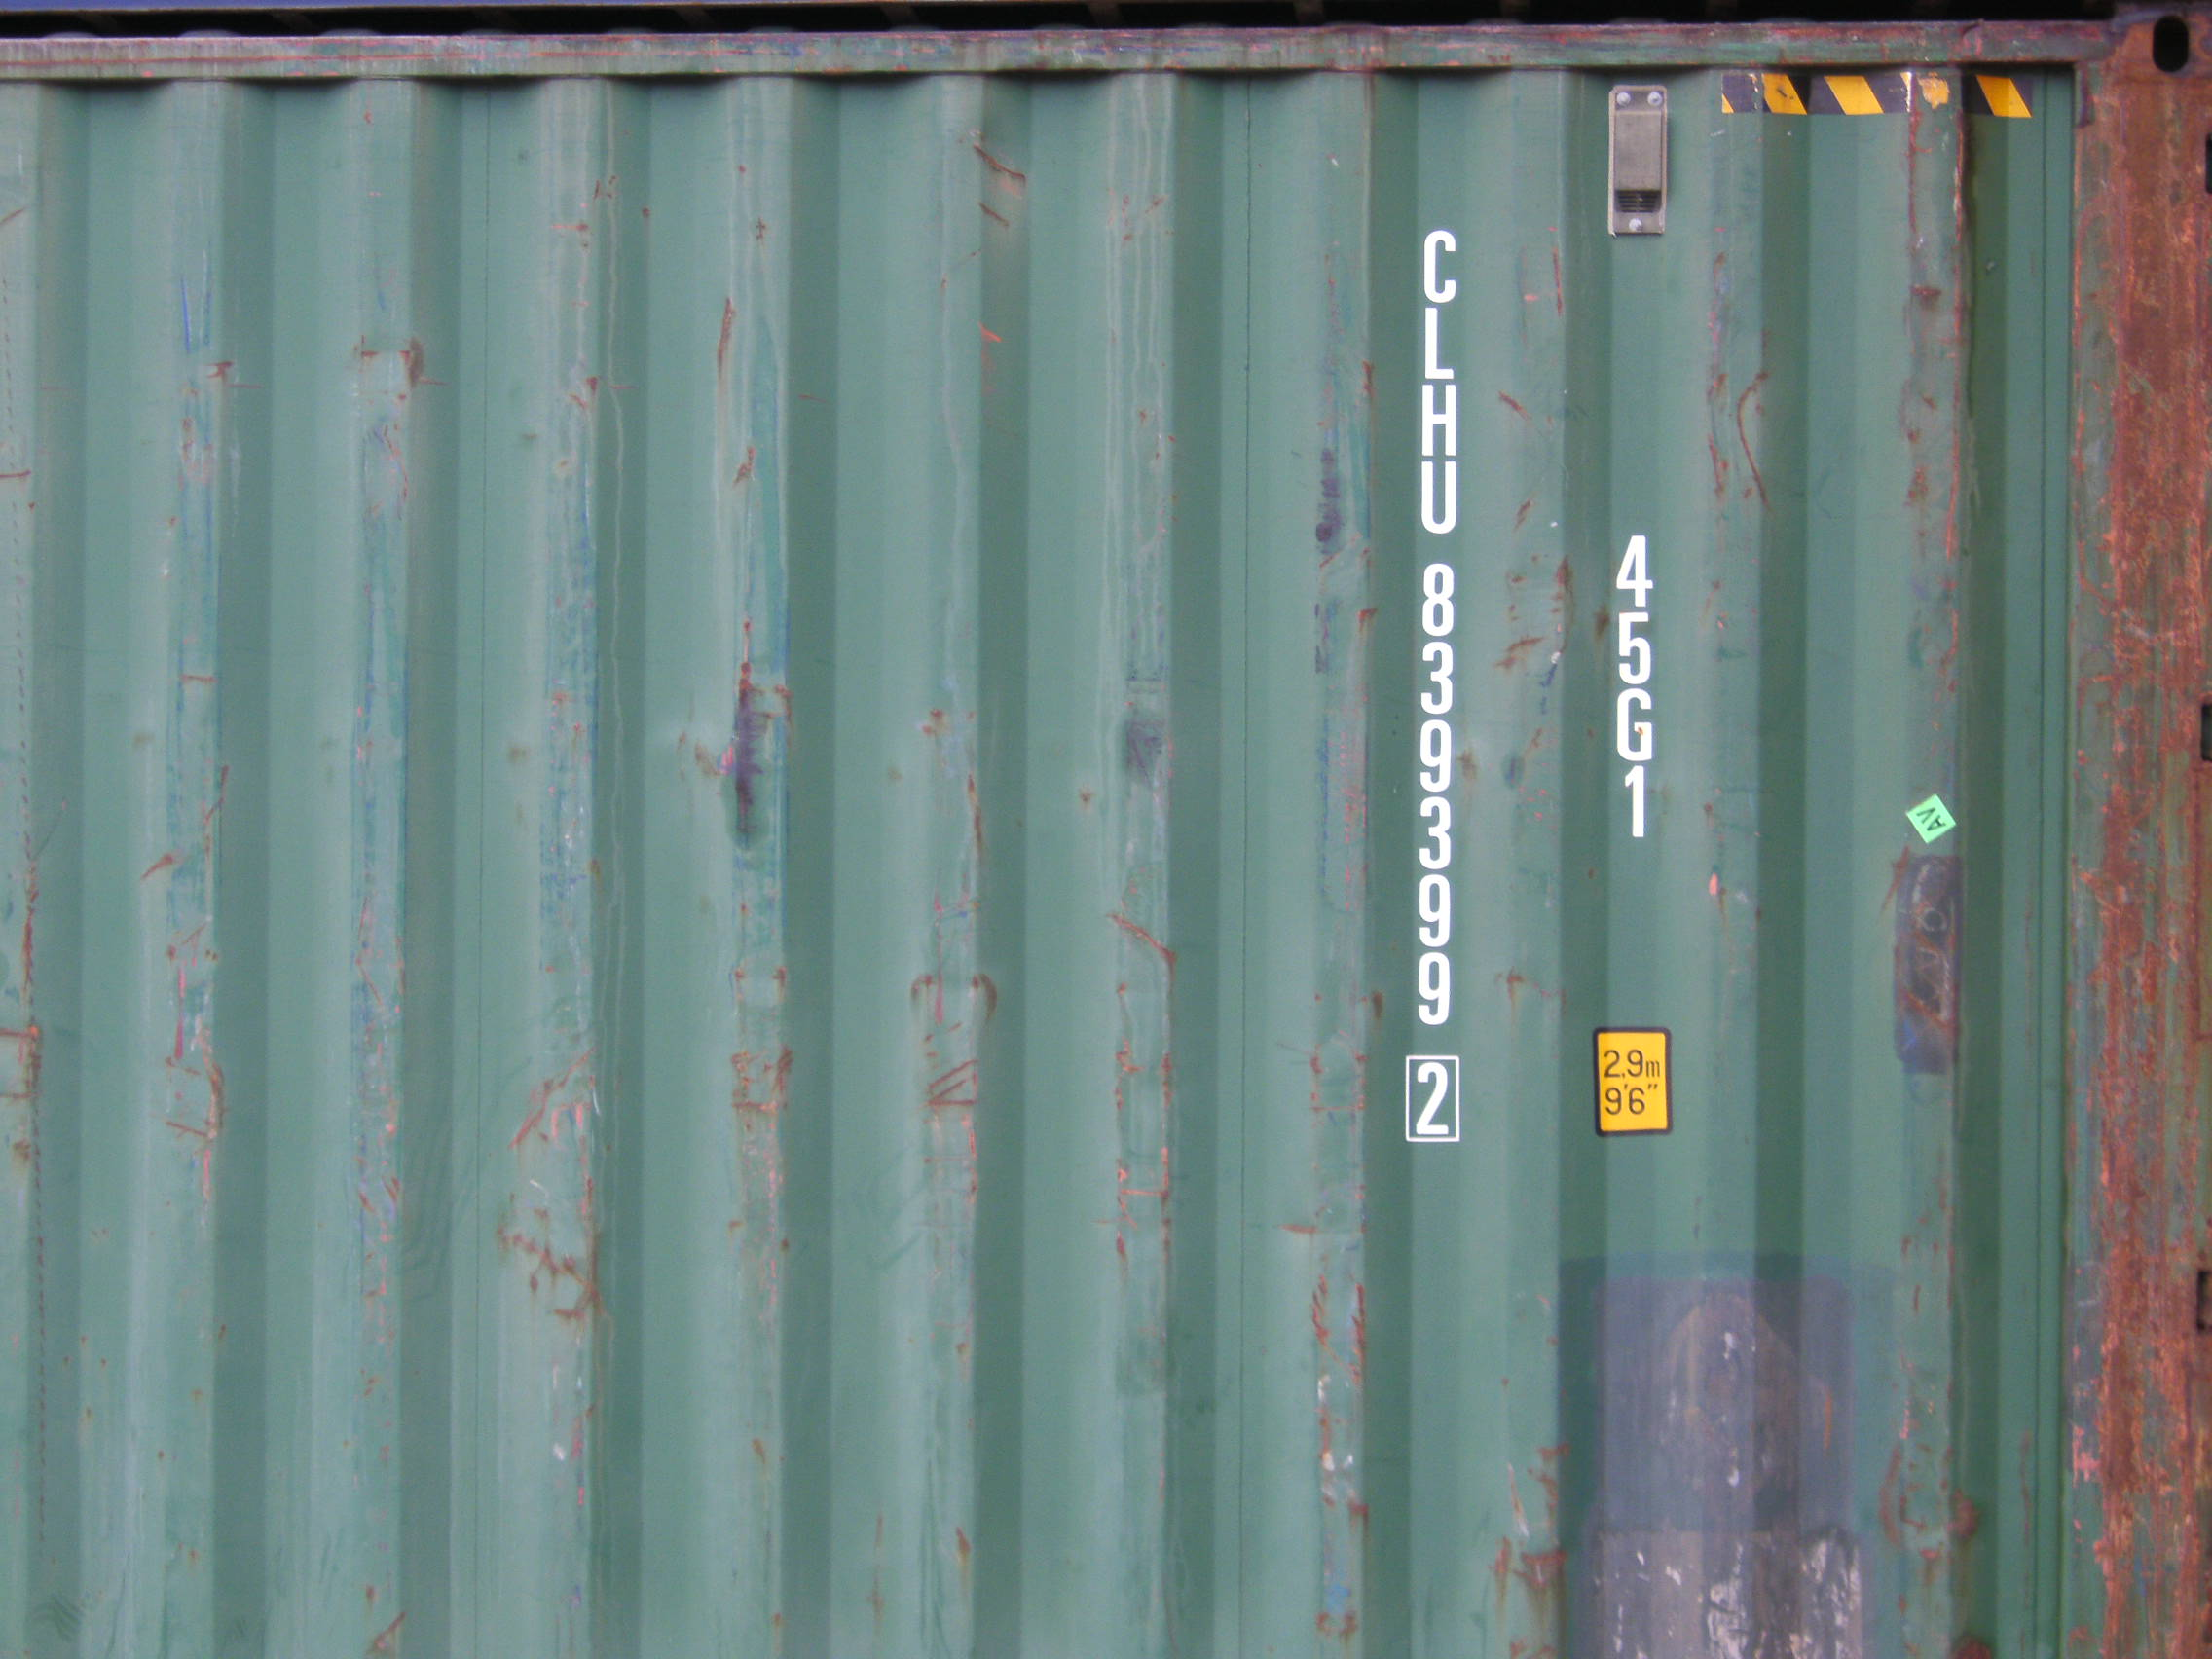container_no_door: (40, 105, 1893, 1615)
